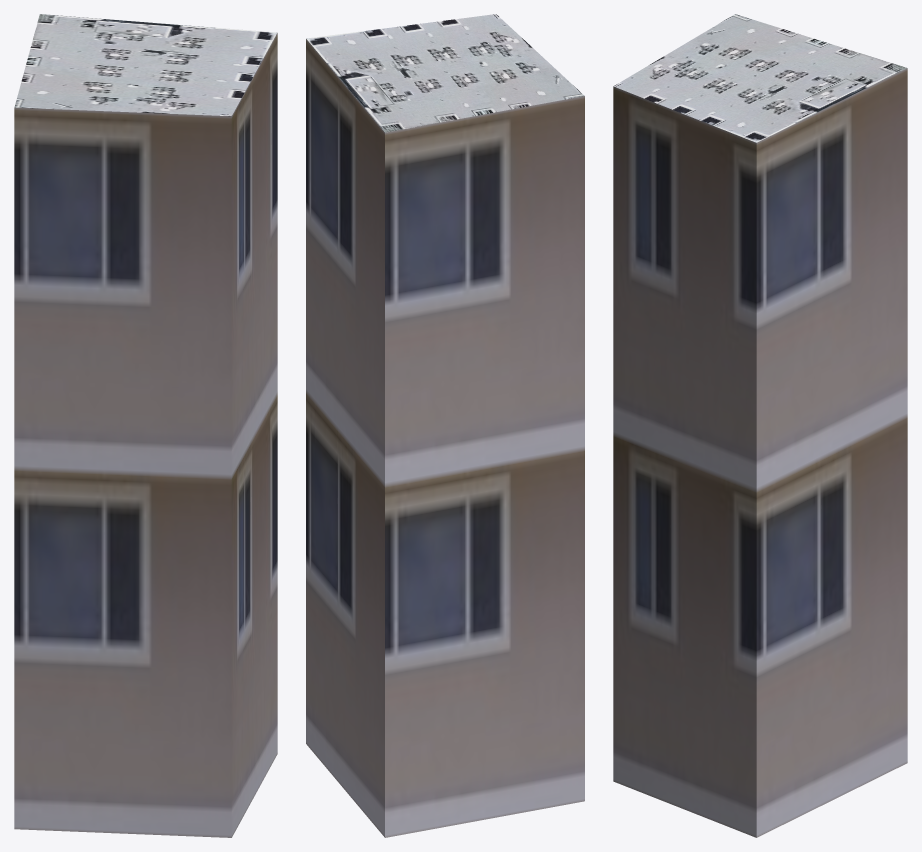
File: ResTex__2195.fbx
3 views of the same model, side by side, from view 1: azimuth 30°, elevation 25°; view 2: azimuth 150°, elevation 25°; view 3: azimuth 270°, elevation 25° (orthographic). The views are drawn at different scales.
Parts seen in each view (by area): view 1: CityEngineMaterial_21_m, CityEngineMaterial_m; view 2: CityEngineMaterial_21_m, CityEngineMaterial_m; view 3: CityEngineMaterial_21_m, CityEngineMaterial_m.
Boxes of the visible parts, box(x1,y1,x2,y2) form: CityEngineMaterial_21_m: box(14, 33, 277, 837); CityEngineMaterial_m: box(14, 14, 276, 116); CityEngineMaterial_21_m: box(306, 39, 584, 837); CityEngineMaterial_m: box(306, 14, 584, 132); CityEngineMaterial_21_m: box(613, 68, 907, 837); CityEngineMaterial_m: box(613, 14, 906, 142).
Size of the model in its own units: 2.39 by 6 by 2.3.
Materials: 2 (2 with a texture image).
